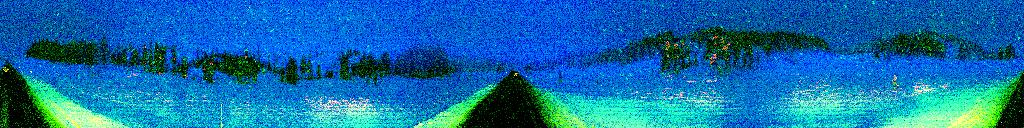pole: (219, 101, 225, 128)
